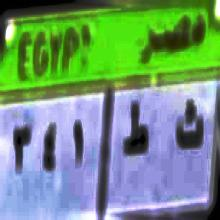1: (70, 115, 88, 173)
3: (12, 120, 32, 178)
4: (41, 121, 58, 174)
Taa: (122, 96, 152, 165)
thaa: (176, 92, 206, 158)
